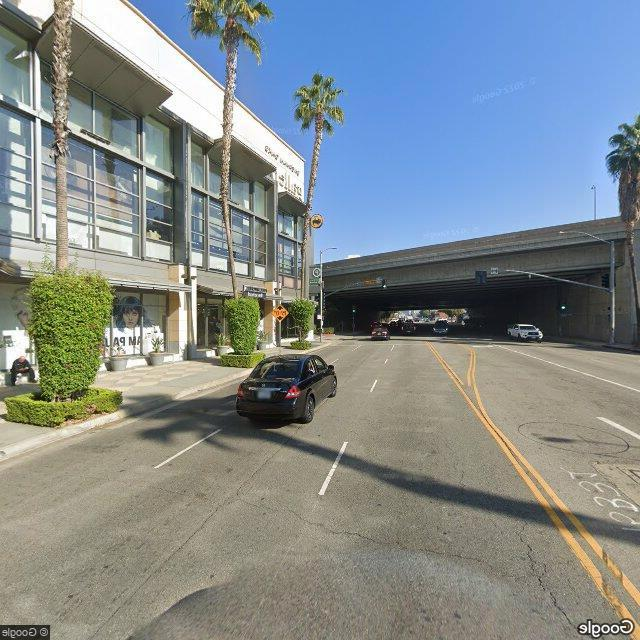crack: (235, 494, 523, 583), (516, 516, 576, 626)
